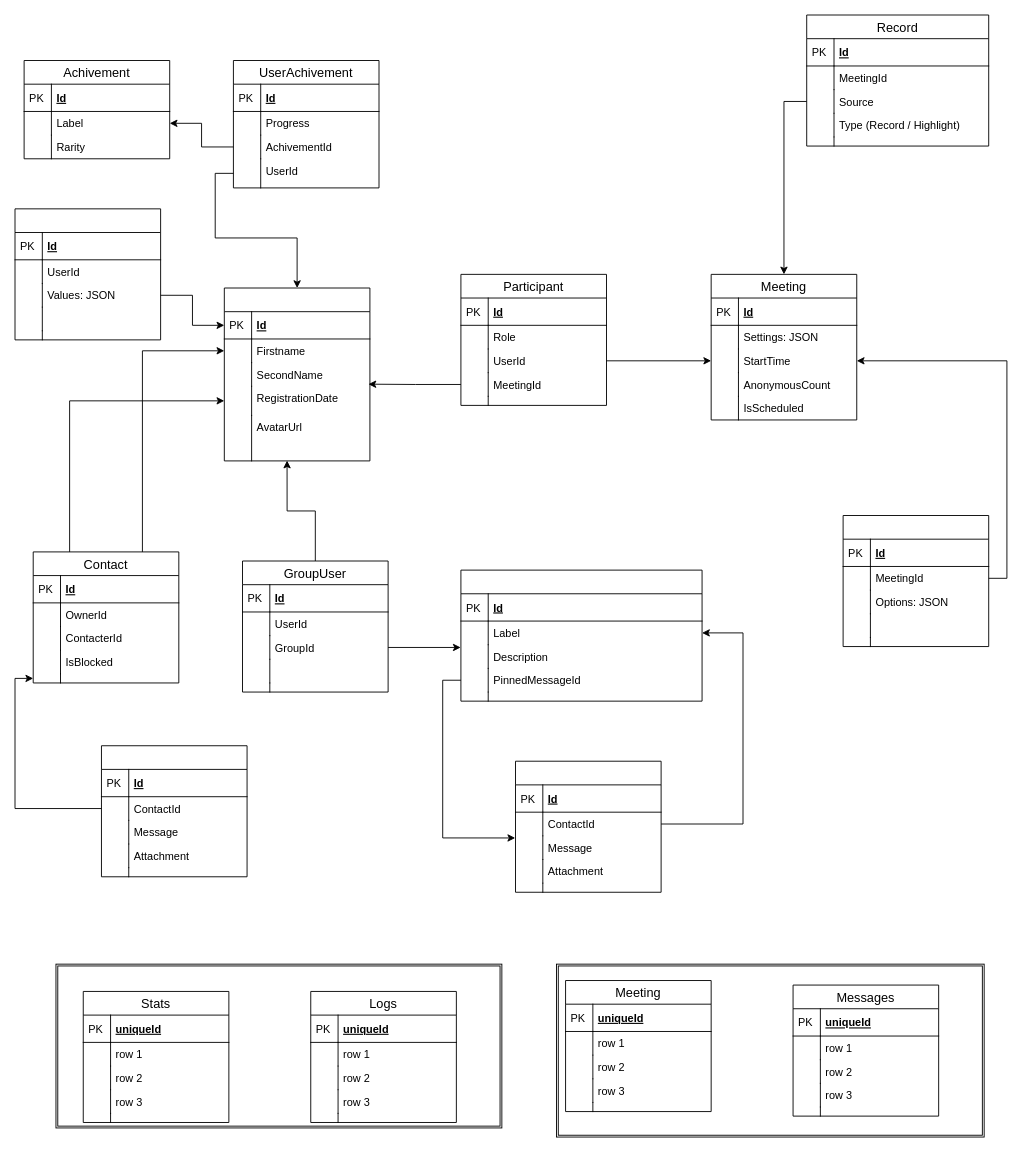
Some shapes in this 1022 by 1152 pixel diagram are drawn without their labels. Each missing label, with the box of its shape:
DirectMessage: (101, 745, 247, 877)
Group: (460, 569, 702, 701)
GroupMessage: (515, 760, 661, 892)
Poll: (842, 515, 989, 647)
Setting: (14, 208, 161, 340)
User: (223, 287, 370, 461)
